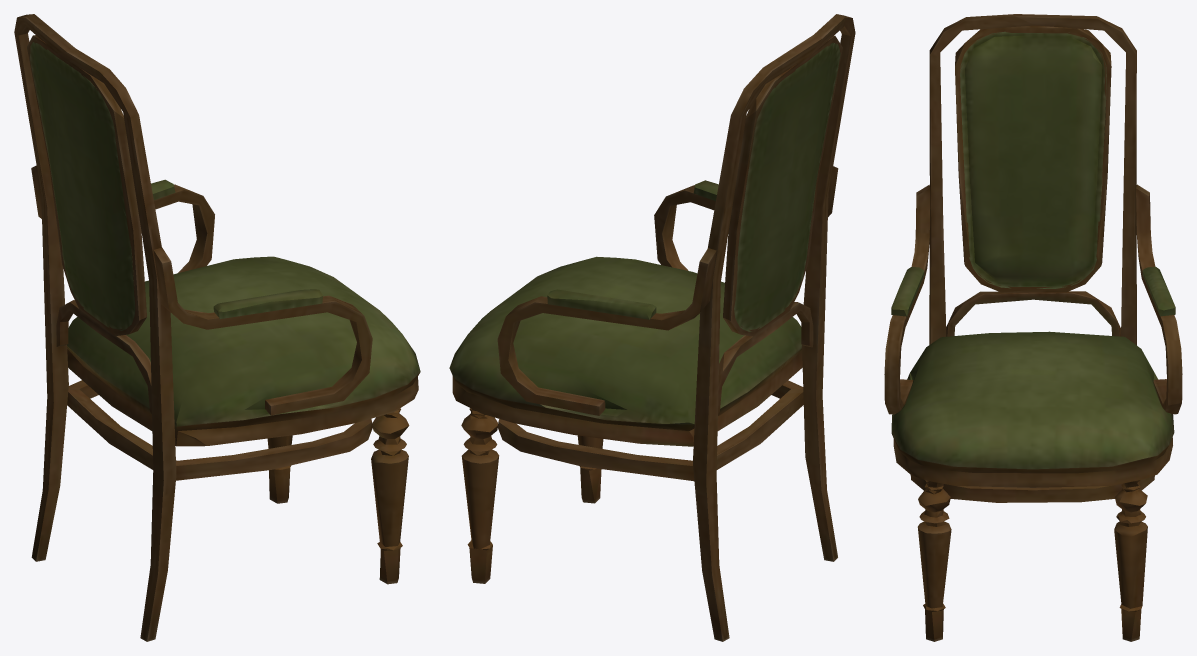
Rendered from chair-dining-carved.lod1.glb.
3 views of the same model, side by side, from view 1: azimuth 30°, elevation 25°; view 2: azimuth 150°, elevation 25°; view 3: azimuth 270°, elevation 25° (orthographic). The views are drawn at different scales.
Parts seen in each view (by area): view 1: chair-dining-carved; view 2: chair-dining-carved; view 3: chair-dining-carved.
Boxes of the visible parts, box(x1,y1,x2,y2) form: chair-dining-carved: box(14, 14, 420, 641); chair-dining-carved: box(449, 14, 855, 641); chair-dining-carved: box(884, 14, 1182, 641).
Size of the model in its own units: 0.6429 by 1.08 by 0.5785.
Materials: 1 (1 with a texture image).
